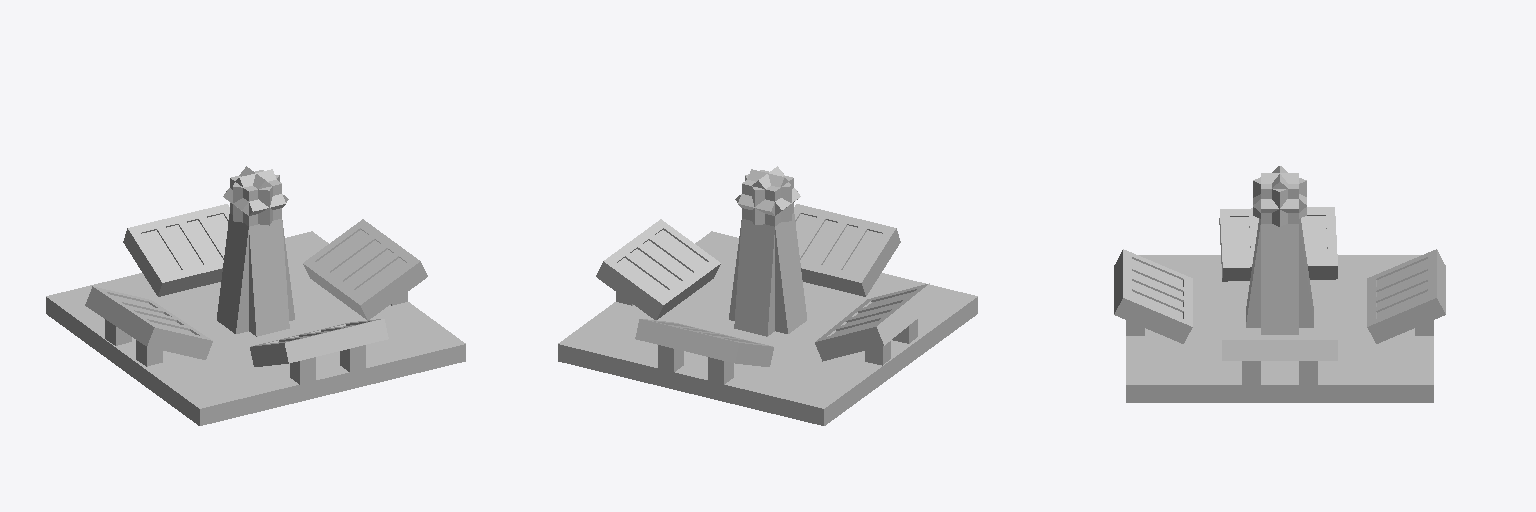
File: preobrazovatlsunrays2.obj
The picture shows the model from 3 angles: view 1: azimuth 30°, elevation 25°; view 2: azimuth 150°, elevation 25°; view 3: azimuth 270°, elevation 25°; orthographic projection.
Parts seen in each view (by area): view 1: cube.040, cube.042, cube.011, cube, cube.044, cube.021, cube.031, cube.046, cube.047, cube.002, cube.000, cube.014 (+6 smaller); view 2: cube.040, cube.043, cube.011, cube.031, cube.044, cube.021, cube, cube.046, cube.047, cube.033, cube.045, cube.038 (+5 smaller); view 3: cube.040, cube.041, cube.031, cube, cube.021, cube.011, cube.043, cube.042, cube.047, cube.048, cube.028, cube.022.
Boxes of the visible parts, x1=… form: cube.040: x1=46, y1=231, x2=465, y2=425; cube.042: x1=249, y1=219, x2=289, y2=336; cube.011: x1=304, y1=230, x2=427, y2=319; cube: x1=123, y1=214, x2=227, y2=296; cube.044: x1=217, y1=213, x2=248, y2=333; cube.021: x1=85, y1=288, x2=211, y2=359; cube.031: x1=250, y1=321, x2=388, y2=366; cube.046: x1=226, y1=169, x2=285, y2=221; cube.047: x1=233, y1=175, x2=279, y2=225; cube.002: x1=136, y1=206, x2=222, y2=233; cube.000: x1=127, y1=226, x2=170, y2=283; cube.014: x1=308, y1=262, x2=362, y2=302; cube.040: x1=558, y1=231, x2=977, y2=425; cube.043: x1=734, y1=219, x2=774, y2=336; cube.011: x1=596, y1=230, x2=719, y2=319; cube.031: x1=796, y1=214, x2=900, y2=296; cube.044: x1=775, y1=213, x2=806, y2=333; cube.021: x1=815, y1=285, x2=937, y2=361; cube: x1=635, y1=321, x2=773, y2=366; cube.046: x1=738, y1=169, x2=797, y2=221; cube.047: x1=745, y1=173, x2=791, y2=224; cube.033: x1=801, y1=206, x2=887, y2=233; cube.045: x1=742, y1=170, x2=793, y2=226; cube.038: x1=853, y1=226, x2=896, y2=283; cube.040: x1=1126, y1=255, x2=1433, y2=402; cube.041: x1=1261, y1=224, x2=1298, y2=334; cube.031: x1=1114, y1=252, x2=1191, y2=343; cube: x1=1368, y1=252, x2=1445, y2=343; cube.021: x1=1219, y1=216, x2=1337, y2=281; cube.011: x1=1222, y1=342, x2=1337, y2=360; cube.043: x1=1299, y1=218, x2=1313, y2=327; cube.042: x1=1246, y1=218, x2=1260, y2=327; cube.047: x1=1253, y1=177, x2=1306, y2=226; cube.048: x1=1261, y1=173, x2=1298, y2=212; cube.028: x1=1325, y1=207, x2=1337, y2=266; cube.022: x1=1220, y1=209, x2=1231, y2=268.
Size of the model in its own units: 1.08 by 0.5937 by 1.08.